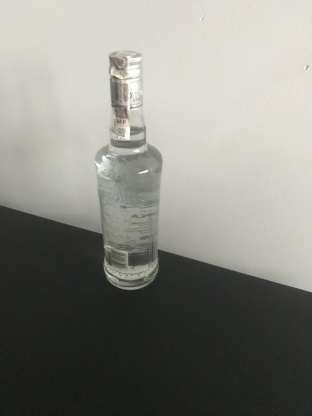nakretka: (107, 48, 144, 111)
